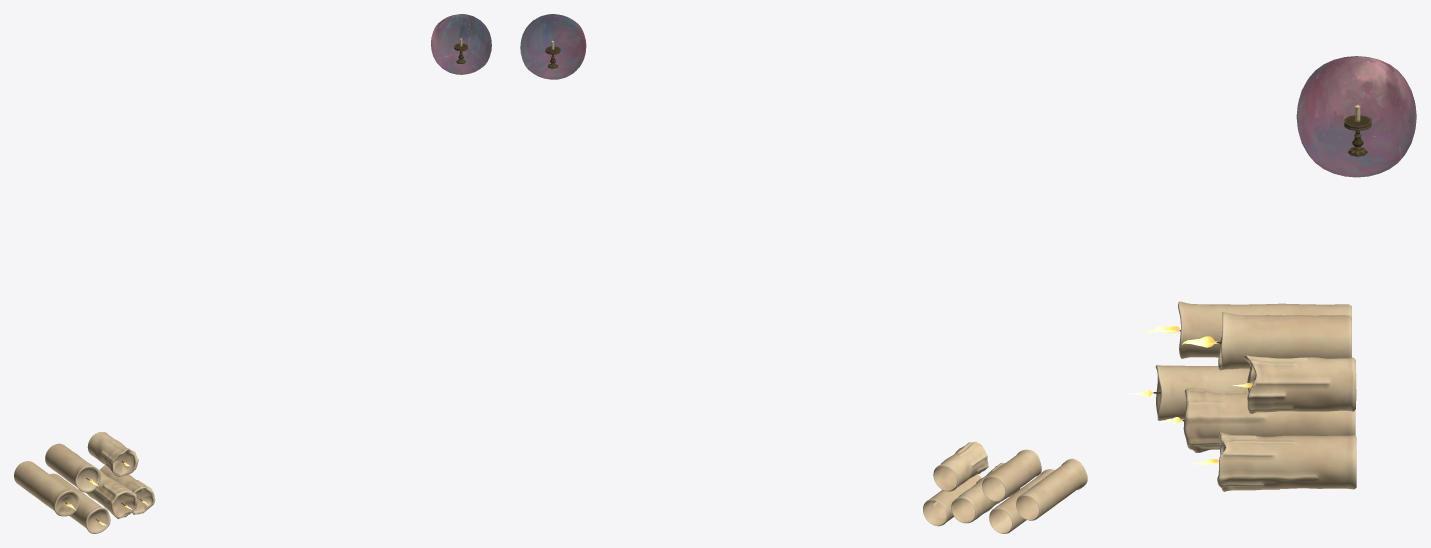
File: ZMedCandleAnimatedFlame.glb
The picture shows the model from 3 angles, left to right: view 1: azimuth 30°, elevation 25°; view 2: azimuth 150°, elevation 25°; view 3: azimuth 270°, elevation 25°; orthographic projection. The views are drawn at different scales.
Parts seen in each view (by area): view 1: Object_3, Room, Object_4, Object_5; view 2: Object_3, Room, Object_4, Object_5; view 3: Object_4, Object_3, Room, Object_5, Object_2, SM_Prop_Table_Side_03.
Part boxes in pixels (bbox=[...]): Object_3: bbox=[14, 443, 110, 533]; Room: bbox=[431, 14, 491, 74]; Object_4: bbox=[86, 463, 155, 518]; Object_5: bbox=[87, 432, 142, 505]; Object_3: bbox=[982, 449, 1087, 533]; Room: bbox=[520, 14, 586, 79]; Object_4: bbox=[923, 462, 1020, 526]; Object_5: bbox=[933, 441, 988, 491]; Object_4: bbox=[1183, 388, 1356, 491]; Object_3: bbox=[1153, 301, 1351, 420]; Room: bbox=[1296, 56, 1416, 177]; Object_5: bbox=[1182, 355, 1356, 421]; Object_2: bbox=[1128, 326, 1252, 464]; SM_Prop_Table_Side_03: bbox=[1344, 115, 1371, 156].
Size of the model in its own units: 224 by 173 by 60.92.
Materials: 7 (6 with a texture image).
